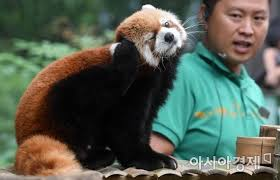redPanda: (17, 2, 189, 174)
